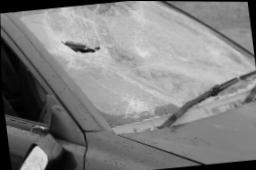Windshield: (12, 1, 256, 133)
